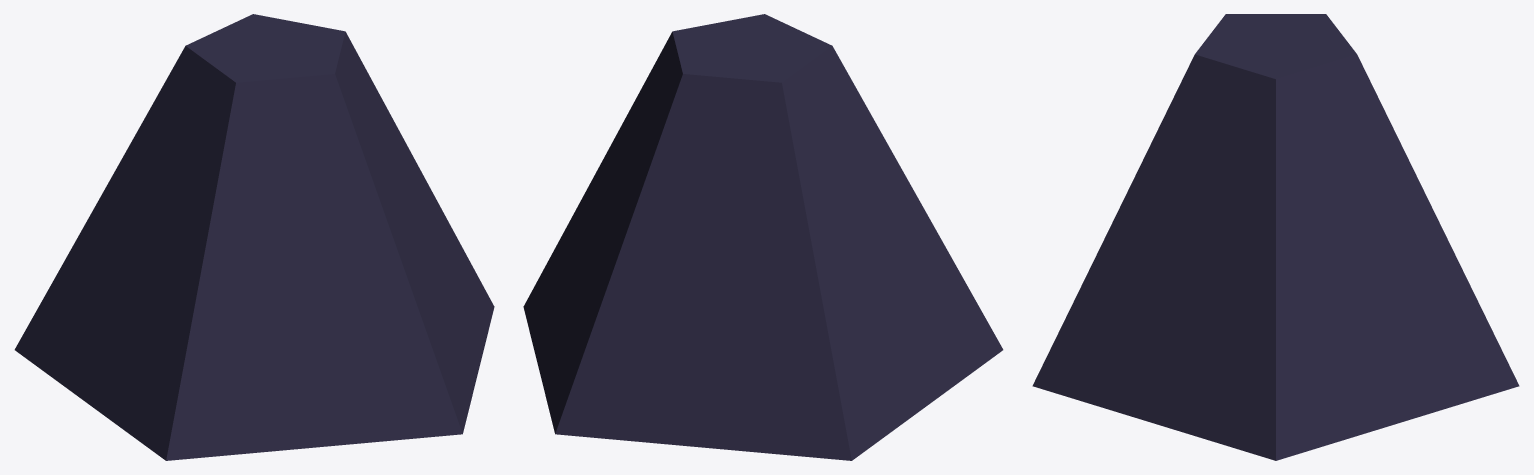
The model's file is Kit_VoidRift_Rock_LOD1.glb.
3 renders of one model, left to right at view 1: azimuth 30°, elevation 25°; view 2: azimuth 150°, elevation 25°; view 3: azimuth 270°, elevation 25°, orthographic.
Visible parts, largest first — view 1: Kit_VoidRift_Rock_LOD1_VoidRift_dark_-1_0; view 2: Kit_VoidRift_Rock_LOD1_VoidRift_dark_-1_0; view 3: Kit_VoidRift_Rock_LOD1_VoidRift_dark_-1_0.
Boxes of the visible parts, x1,y1,x2,y2 form: Kit_VoidRift_Rock_LOD1_VoidRift_dark_-1_0: (14, 14, 494, 460); Kit_VoidRift_Rock_LOD1_VoidRift_dark_-1_0: (523, 14, 1003, 460); Kit_VoidRift_Rock_LOD1_VoidRift_dark_-1_0: (1032, 14, 1519, 460).
Size of the model in its own units: 8.14 by 6 by 8.56.
